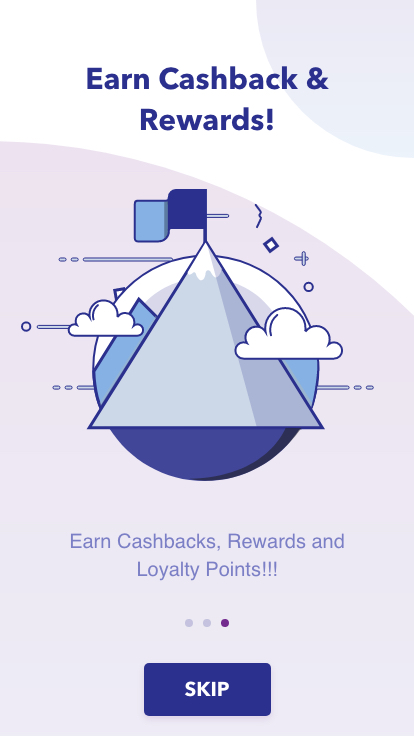Image: (21, 188, 375, 483)
PageIndicator: (184, 618, 231, 629)
Text: (86, 64, 331, 133), (70, 531, 346, 583)
TextButton: (144, 662, 272, 716)
